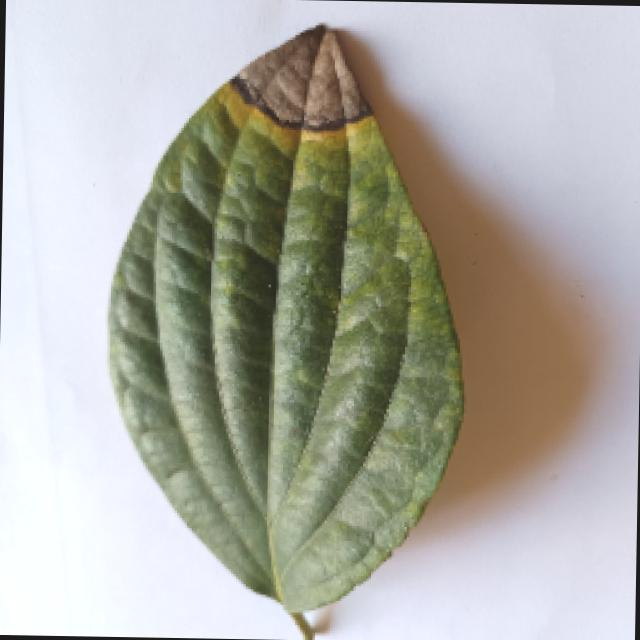footrot: (105, 24, 475, 633)
